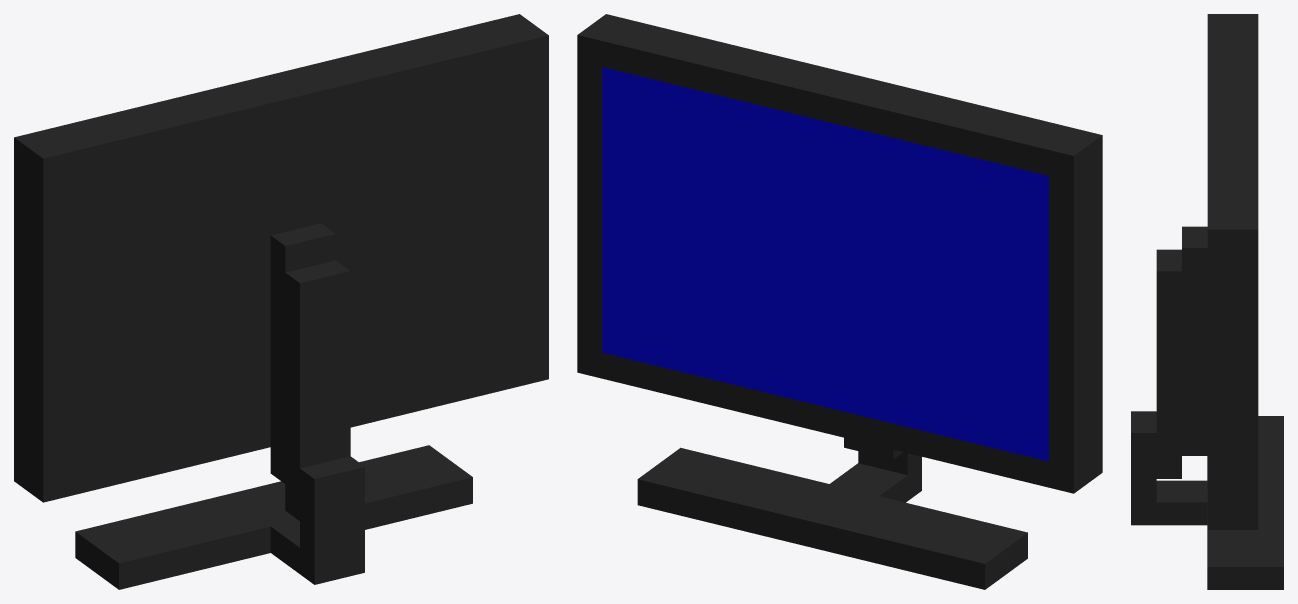
Rendered from computer_screen.dae.
The picture shows the model from 3 angles, left to right: view 1: azimuth 30°, elevation 25°; view 2: azimuth 150°, elevation 25°; view 3: azimuth 270°, elevation 25°; orthographic projection. The views are drawn at different scales.
Parts seen in each view (by area): view 1: Untitled.001; view 2: Untitled, Untitled.001; view 3: Untitled.001.
Boxes of the visible parts, left/top/right/bottom form: Untitled.001: left=14, top=14, right=548, bottom=589; Untitled: left=602, top=67, right=1048, bottom=461; Untitled.001: left=577, top=14, right=1102, bottom=589; Untitled.001: left=1131, top=14, right=1283, bottom=589.
Size of the model in its own units: 0.6 by 0.18 by 0.51.
2 materials, 2 textured.
